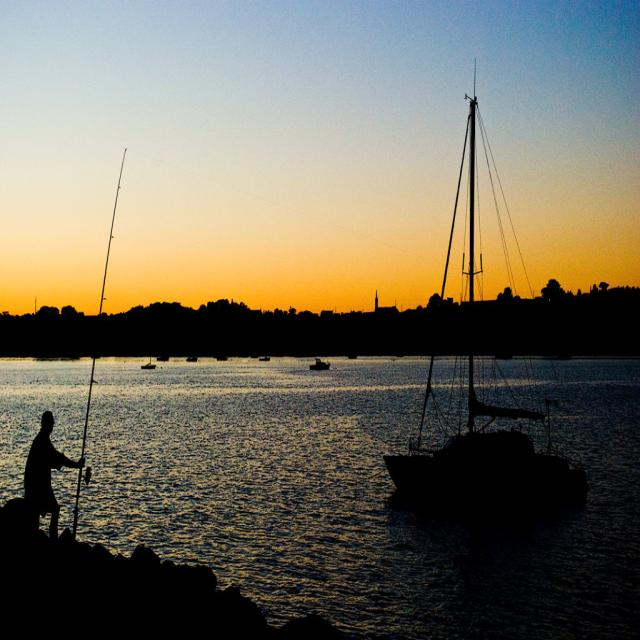Boat: (369, 100, 618, 563)
People: (19, 405, 79, 532)
